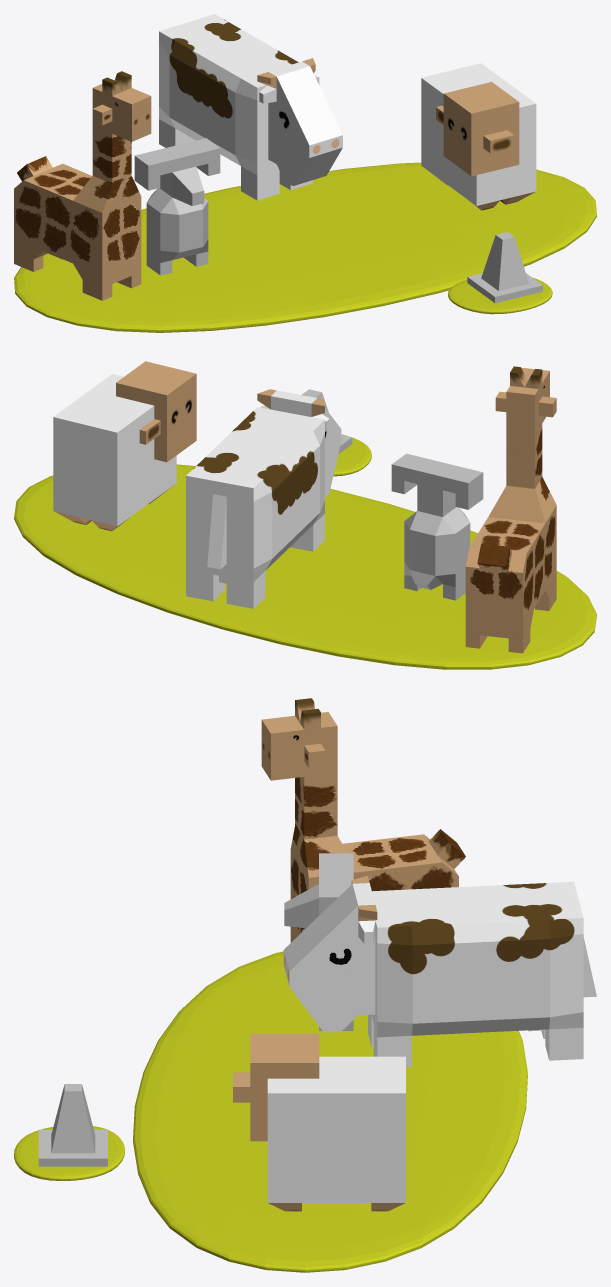
File: Animal-lowpoly 1.fbx
3 views of the same model, one above another, from view 1: azimuth 30°, elevation 25°; view 2: azimuth 150°, elevation 25°; view 3: azimuth 270°, elevation 25° (orthographic). The views are drawn at different scales.
Parts seen in each view (by area): view 1: sol-02, bovin-low, girafe-low, mouton-low, lapin-low, plot-low, sol-01; view 2: sol-02, bovin-low, mouton-low, girafe-low, lapin-low, sol-01; view 3: sol-02, bovin-low, mouton-low, girafe-low, plot-low, lapin-low, sol-01.
Part boxes in pixels (x1,y1,x2,y2): sol-02: (14, 162, 596, 332); bovin-low: (159, 14, 342, 200); girafe-low: (14, 71, 151, 300); mouton-low: (421, 63, 536, 210); lapin-low: (134, 138, 220, 275); plot-low: (467, 232, 542, 303); sol-01: (448, 278, 552, 314); sol-02: (14, 464, 596, 669); bovin-low: (186, 389, 341, 608); mouton-low: (53, 361, 196, 531); girafe-low: (465, 366, 556, 653); lapin-low: (391, 453, 483, 600); sol-01: (333, 434, 371, 476); sol-02: (133, 951, 527, 1272); bovin-low: (283, 876, 596, 1067); mouton-low: (233, 1033, 405, 1211); girafe-low: (261, 698, 465, 942); plot-low: (38, 1084, 107, 1166); lapin-low: (284, 853, 353, 1030); sol-01: (14, 1126, 124, 1180).
Bounding box in the file's own units: 4494 × 1826 × 3371.
